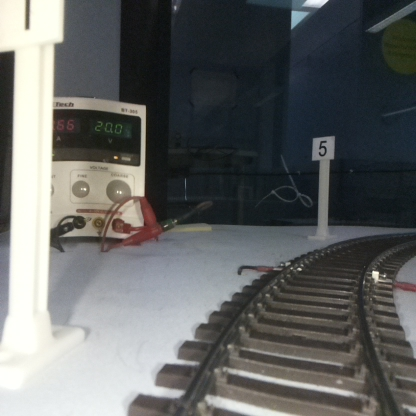white-info-5: (312, 136, 334, 240)
